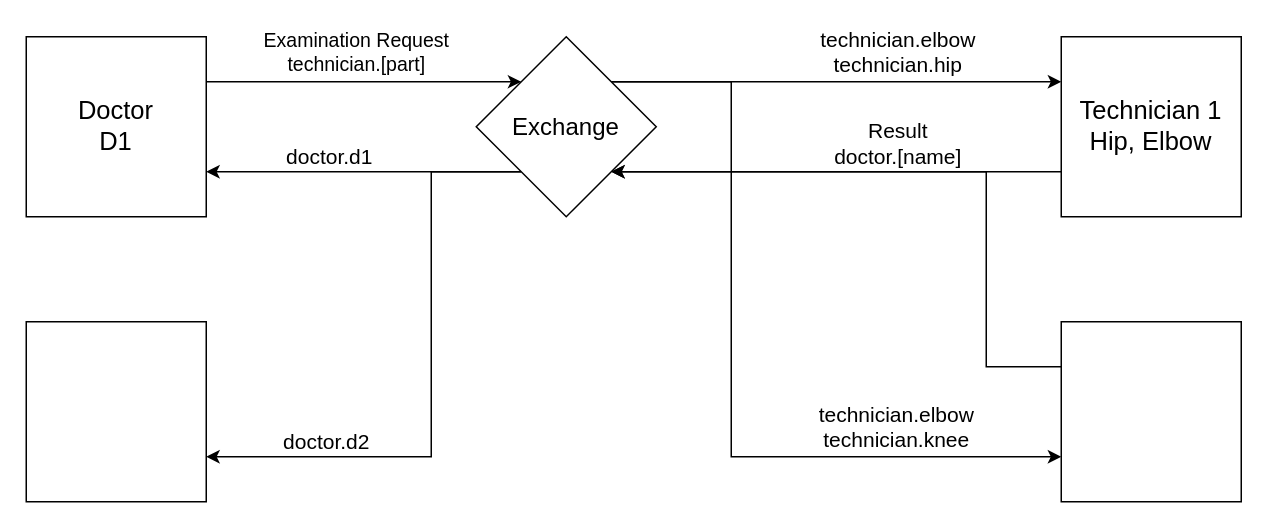
This 1268x528 diagram has some shape labels left out. Here are the shapes that lost their labels. From the top down, the centre of each, then its label:
At point (115, 411): "Doctor D2".
At point (1150, 411): "Technician 2 Elbow, Knee".
